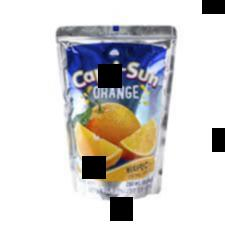cafrisun: (54, 24, 182, 213)
